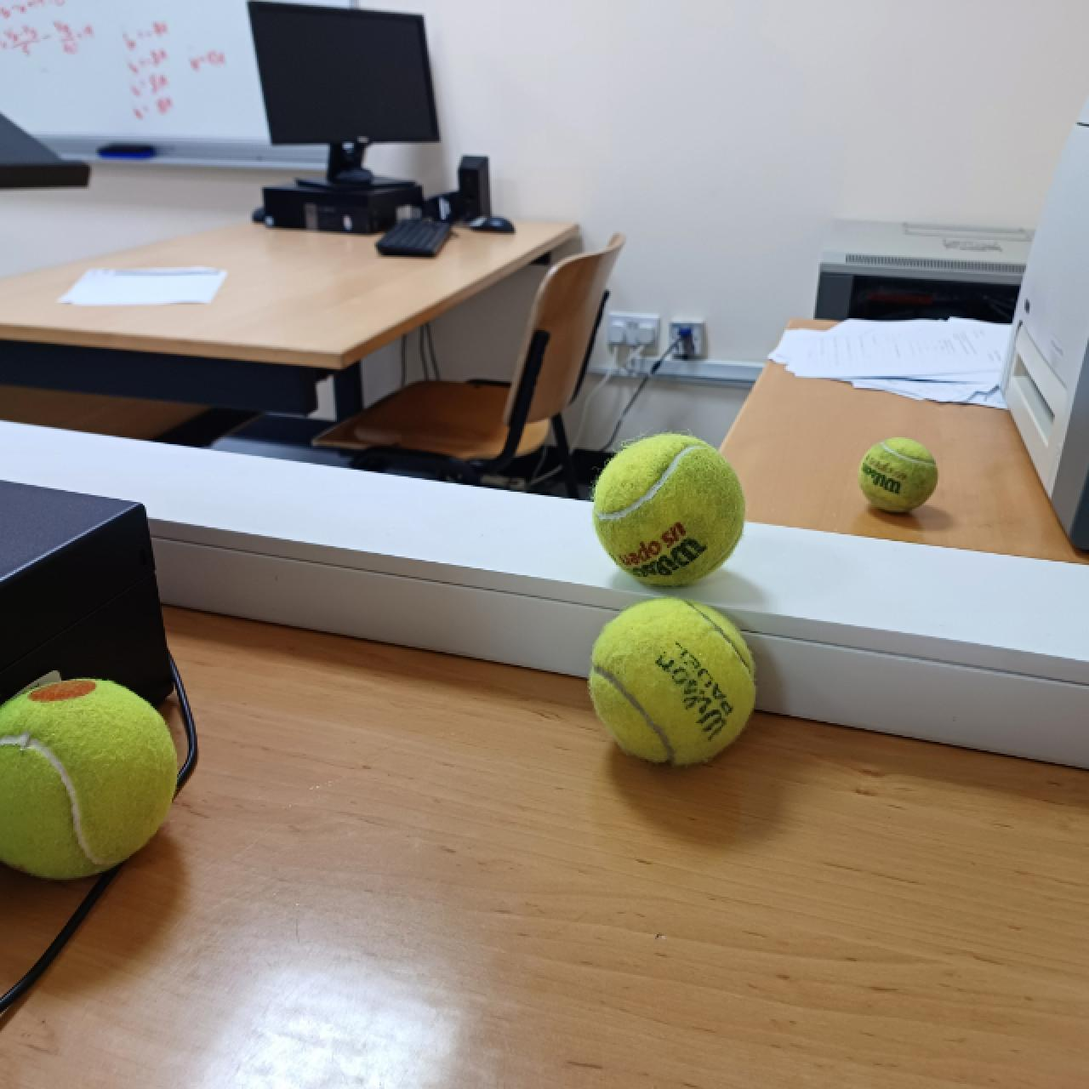tennis-ball: (0, 674, 180, 882), (589, 594, 759, 766), (591, 432, 747, 588), (855, 435, 939, 514)
